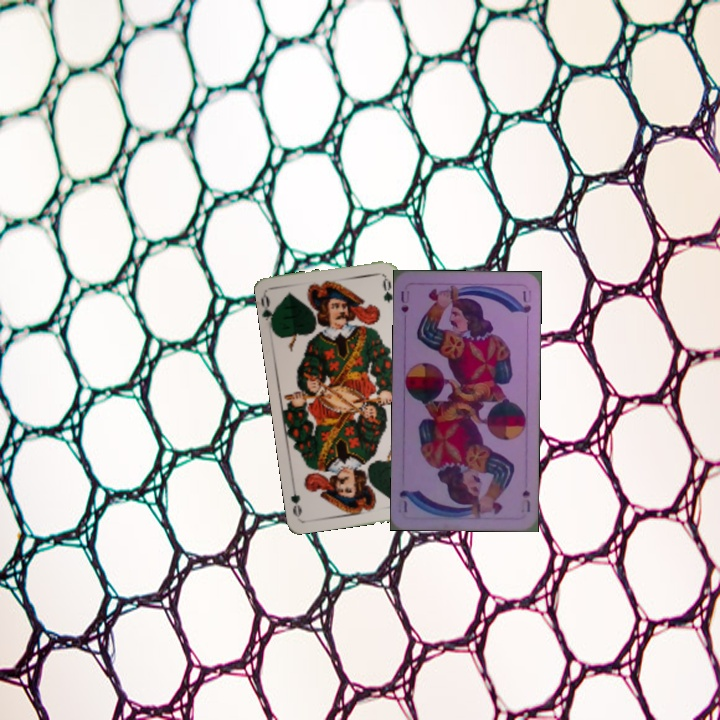GO: (258, 291, 280, 331)
SU: (518, 486, 533, 515), (397, 287, 412, 315)
